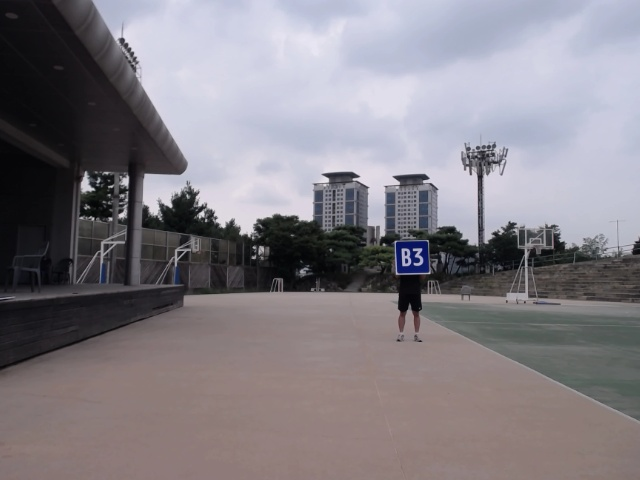delivery_b3: (393, 239, 433, 277)
